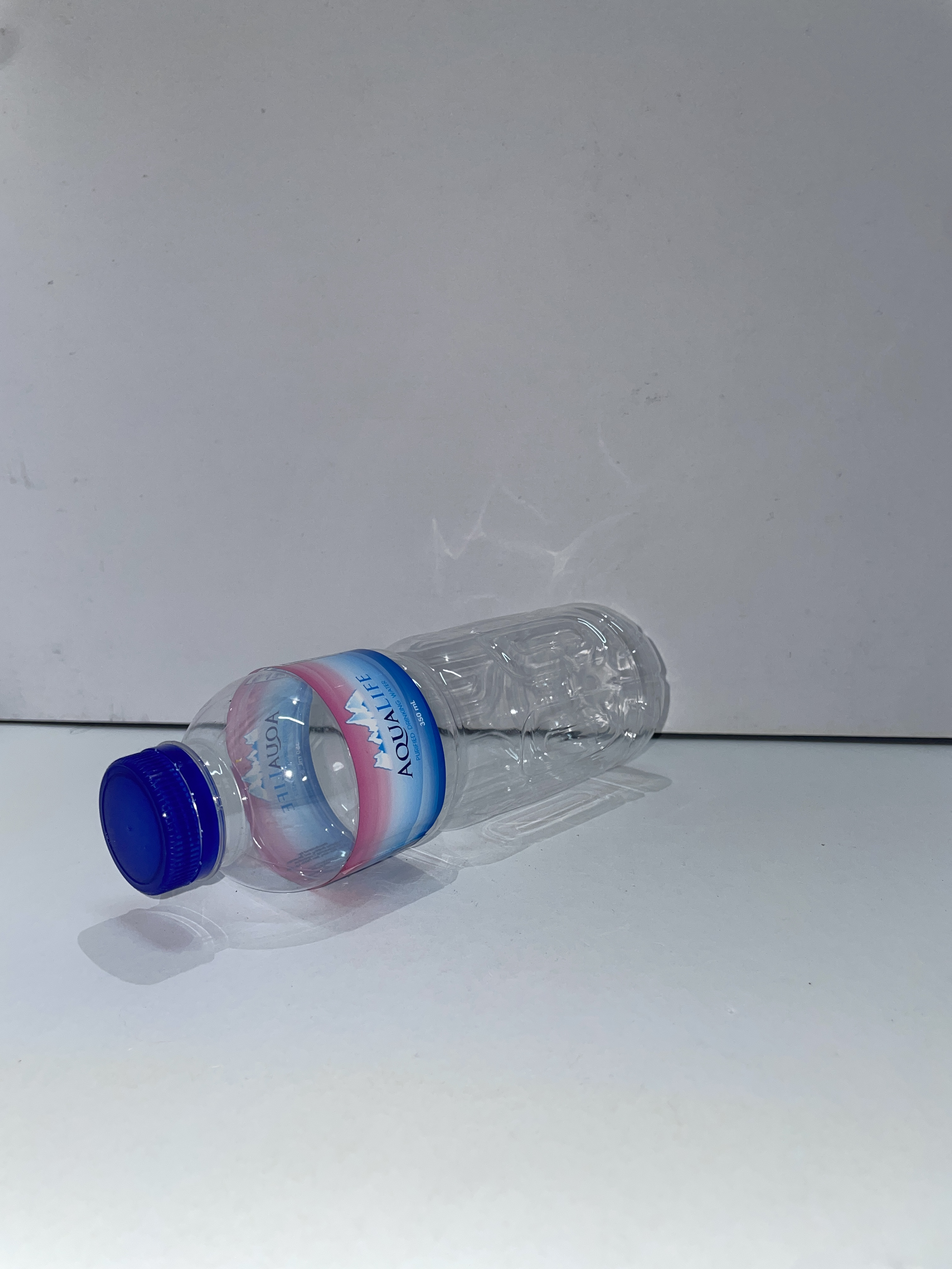Aqua Life 350ml: (99, 603, 668, 896)
